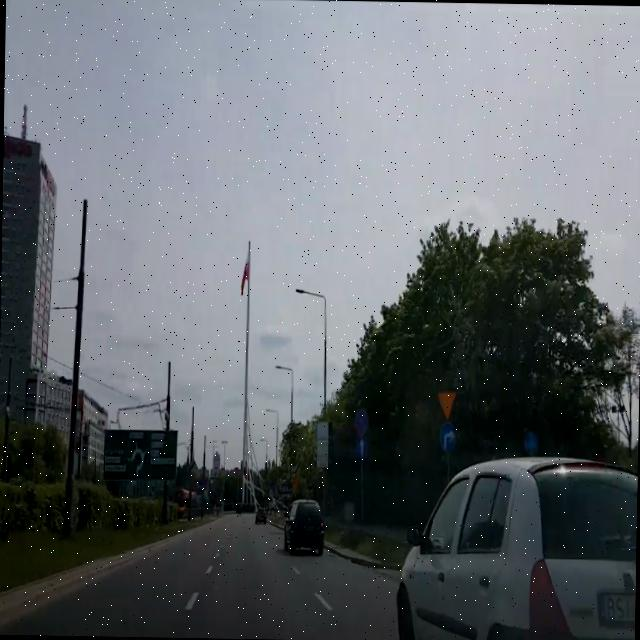Ustap pierwszenstwa: (437, 391, 455, 419)
Zakaz zatrzymywania sie: (354, 408, 369, 434)
